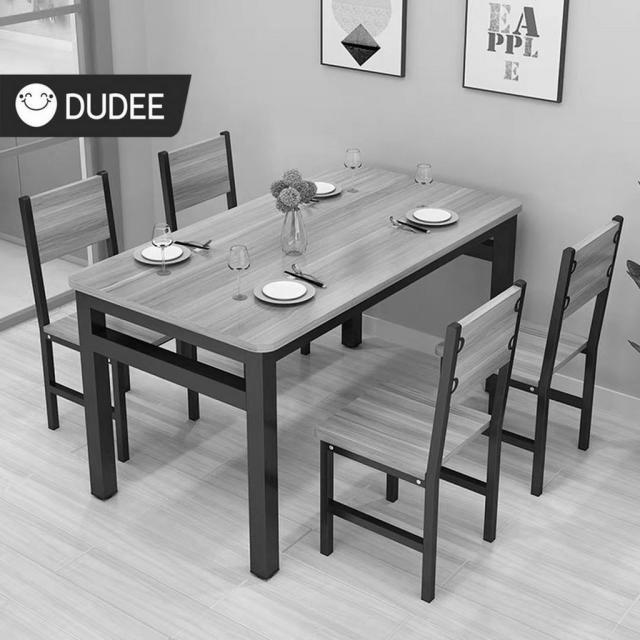table: (70, 133, 514, 376)
